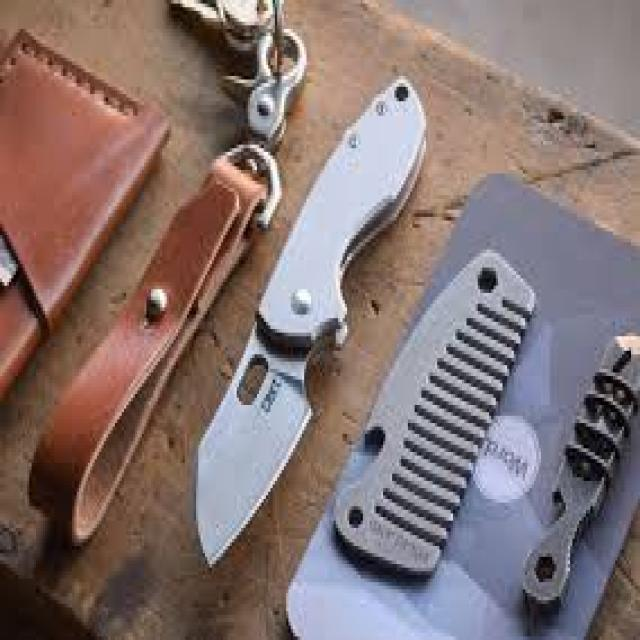knives: (172, 209, 331, 582)
